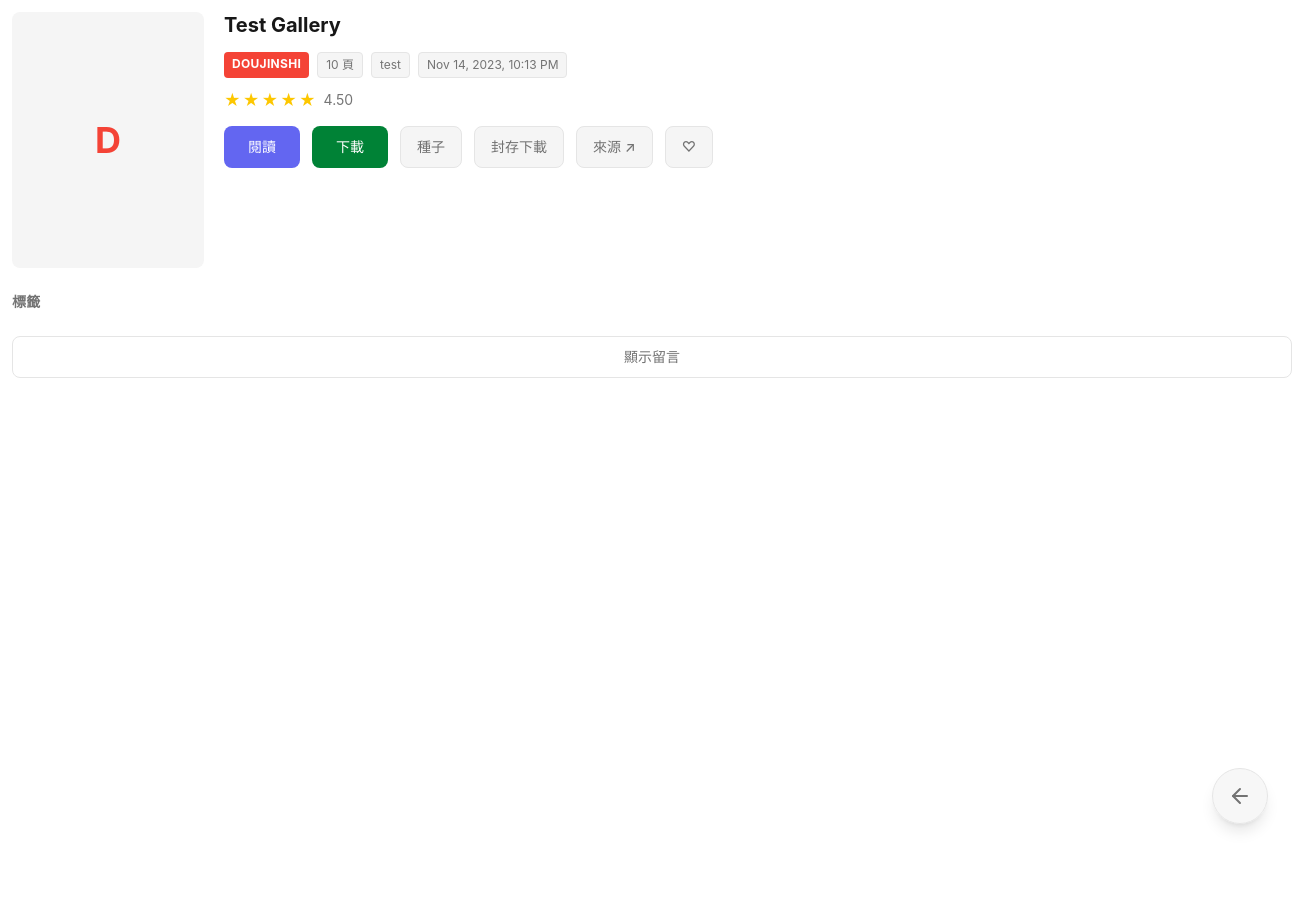
Test: E-Hentai favourite category names stay untranslated under a zh-TW locale › labels the detail-page favourite picker with untranslated names
The width and height of the screenshot is (1304, 912).
Click the button "♡": (689, 146) [665,126,713,168]
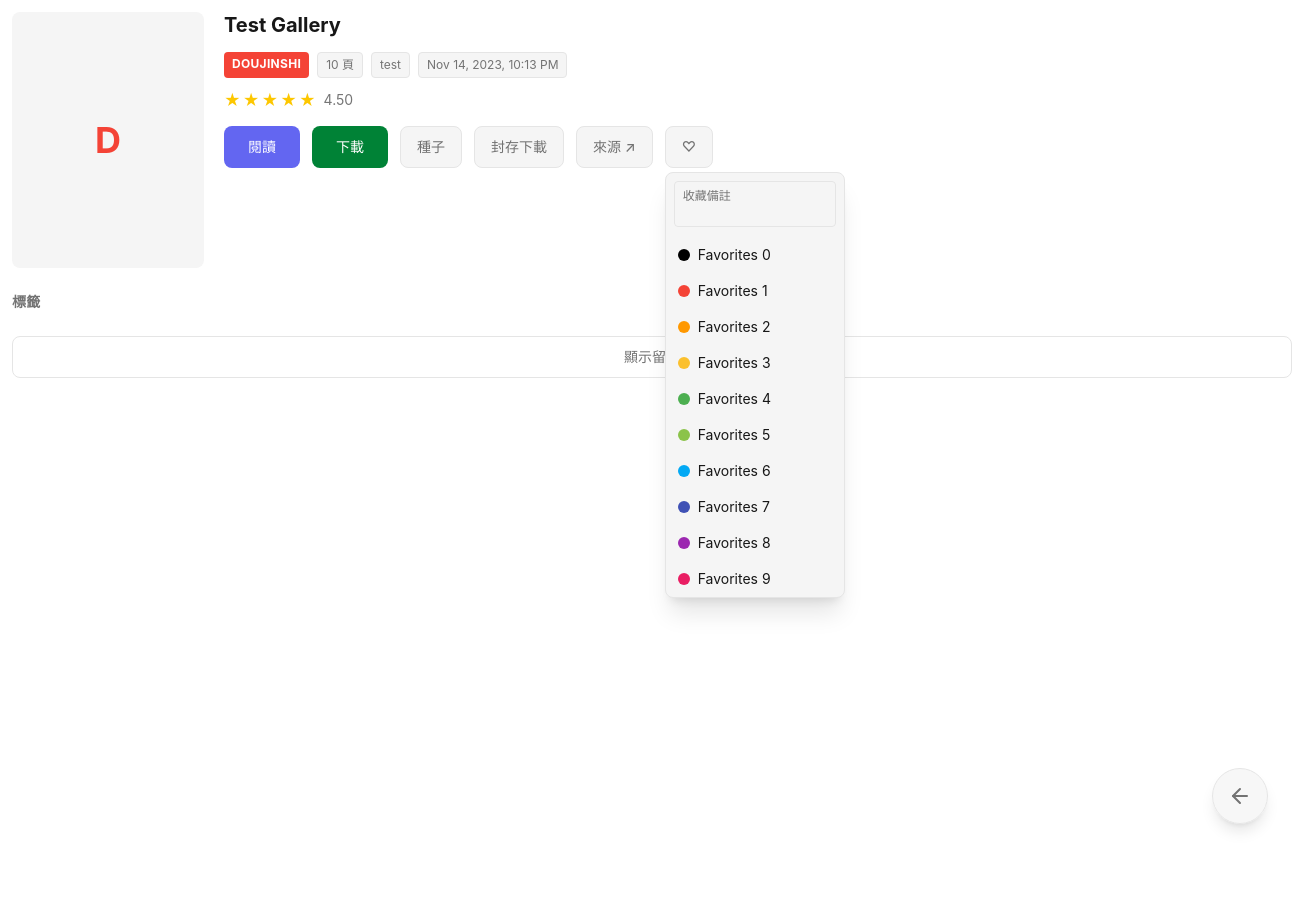
Now the button "Favorites 0" is shown, box [666,236,844,272]
Now the button "Favorites 9" is shown, box [666,560,844,596]
